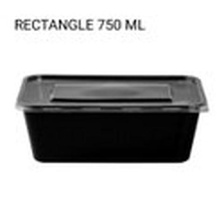plastic_box: (8, 61, 214, 172)
